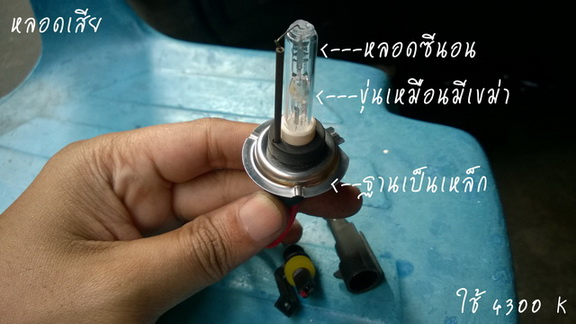Light_bulb: (273, 18, 321, 146)
